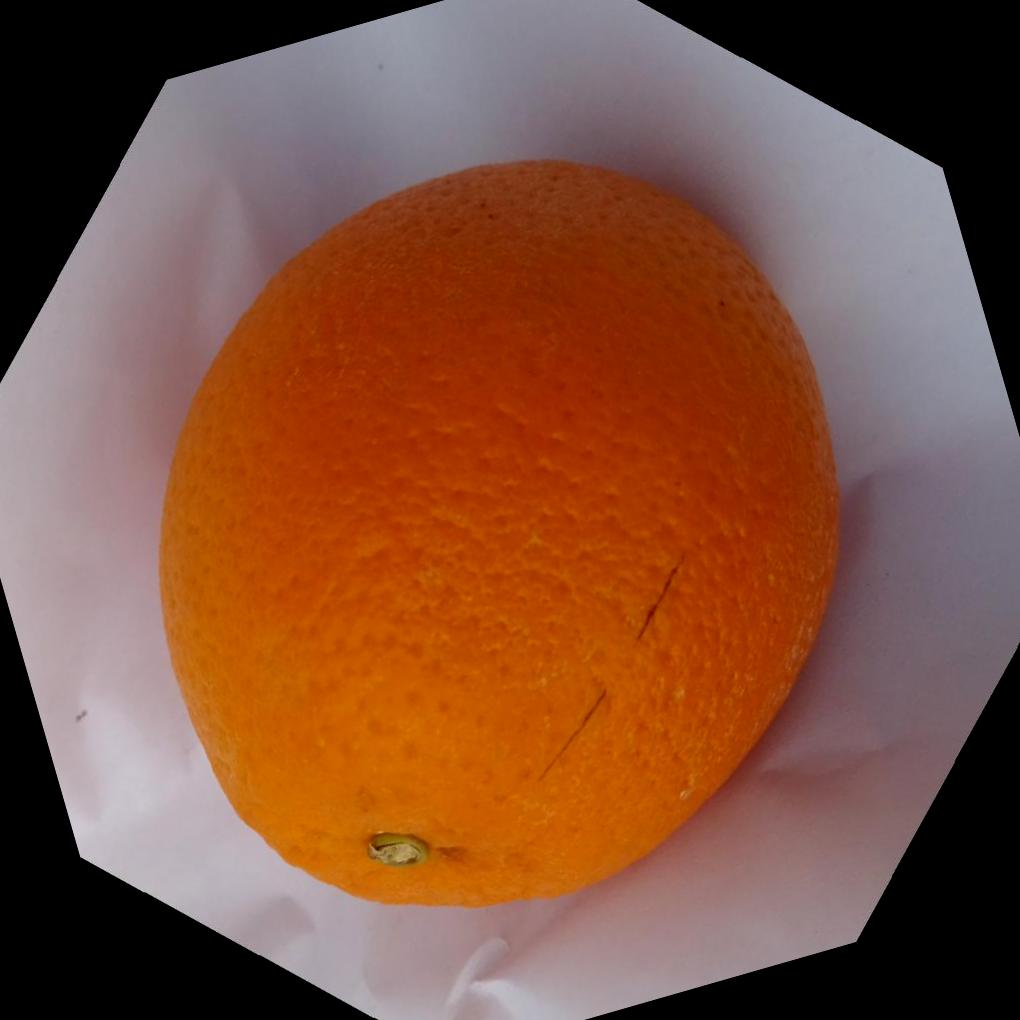FreshGuava: (153, 151, 842, 906)
